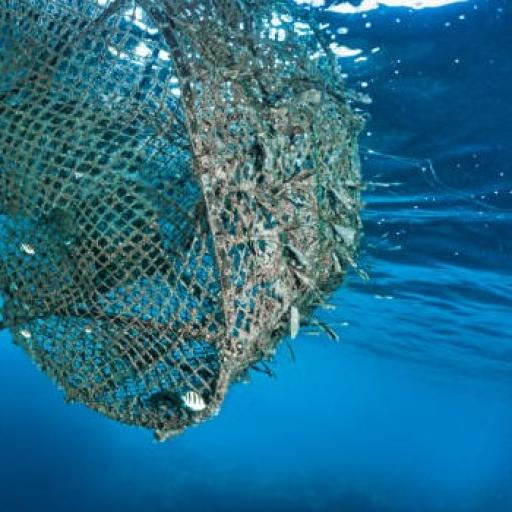net: (2, 2, 364, 432)
